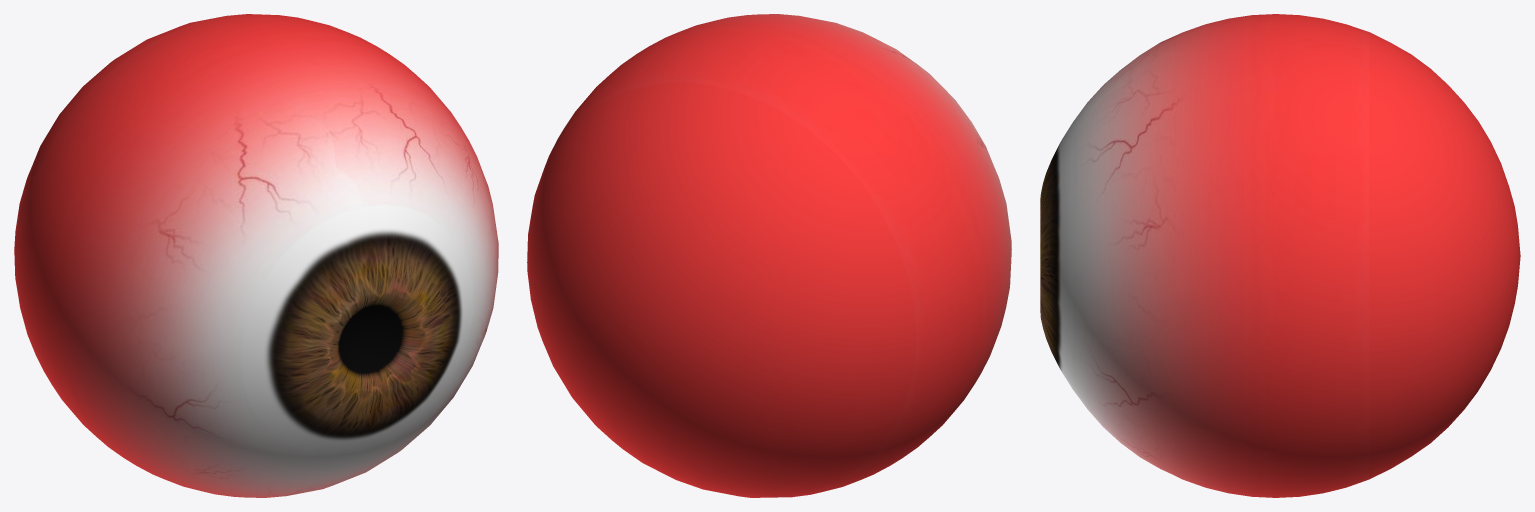
Rendered from eye.glb.
3 renders of one model, left to right at view 1: azimuth 30°, elevation 25°; view 2: azimuth 150°, elevation 25°; view 3: azimuth 270°, elevation 25°, orthographic.
Parts seen in each view (by area): view 1: Eye; view 2: Eye; view 3: Eye.
Boxes of the visible parts, x1,y1,x2,y2 form: Eye: (14,14,498,497); Eye: (527,14,1011,497); Eye: (1040,14,1520,497).
Size of the model in its own units: 1.97 by 1.97 by 1.96.
1 material, 1 textured.
